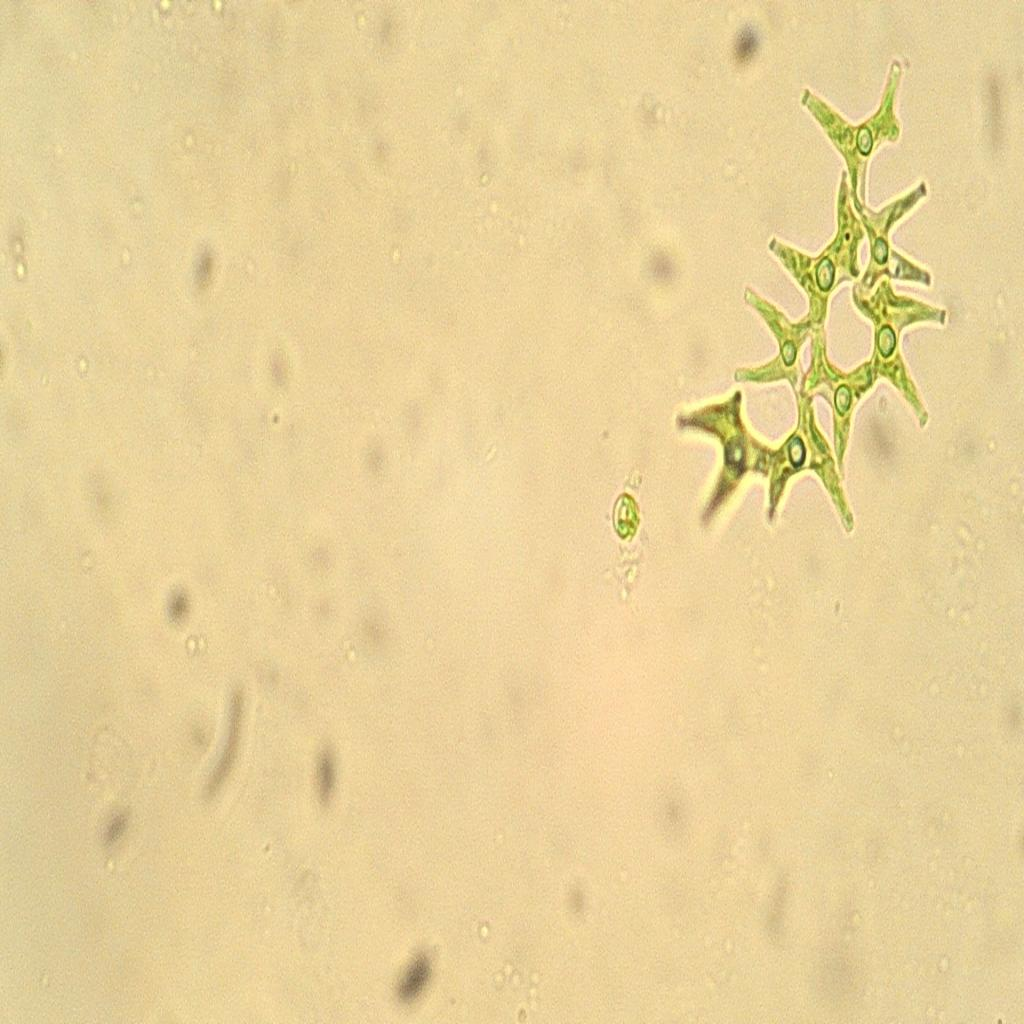Pediastrum_CFI: (664, 48, 956, 564)
